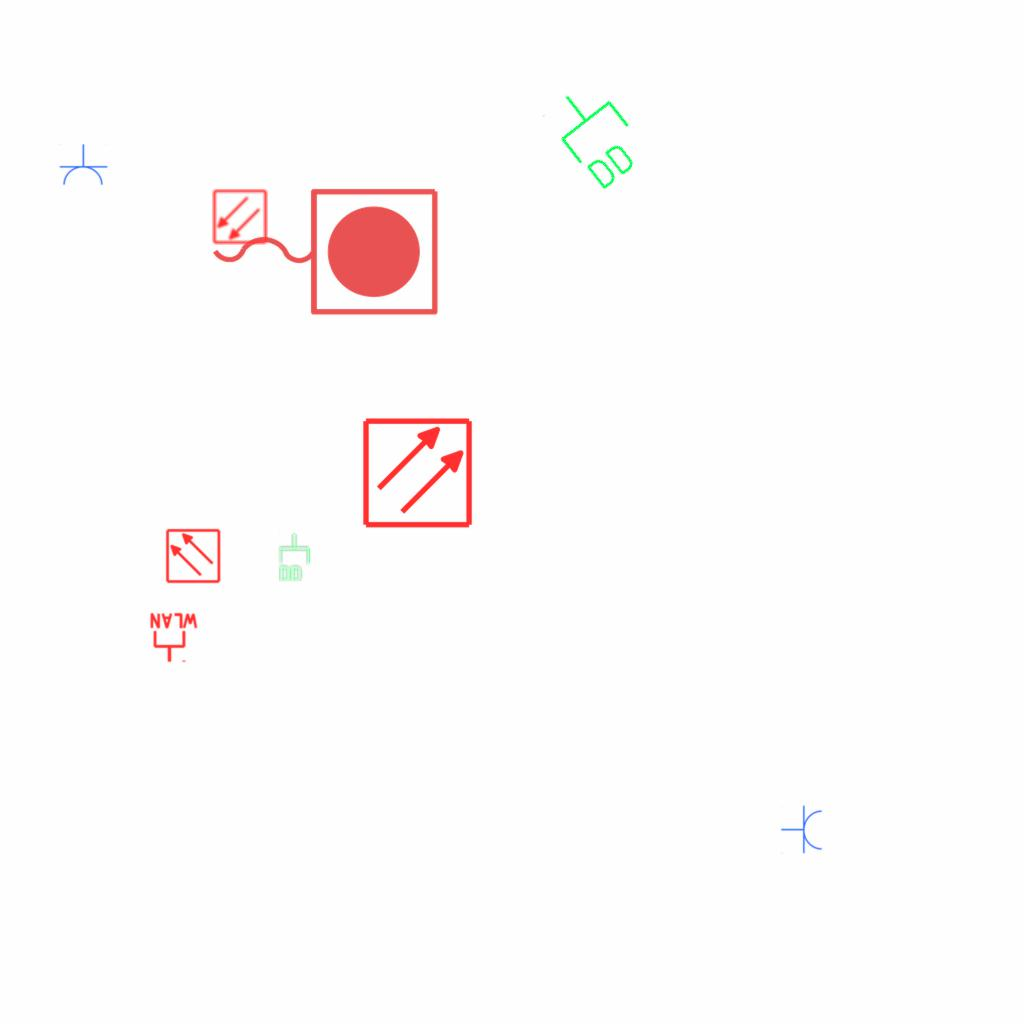Datenanschluss_zweifach: (537, 73, 656, 198), (277, 532, 311, 583)
RMO_Rauchmelder_optischer: (361, 416, 474, 529), (165, 528, 221, 584), (212, 189, 268, 245)
Schukosteckdose_einfach: (58, 144, 108, 187), (781, 805, 824, 855)
WLAN: (148, 612, 200, 664)
Zugtaster: (202, 178, 446, 322)
